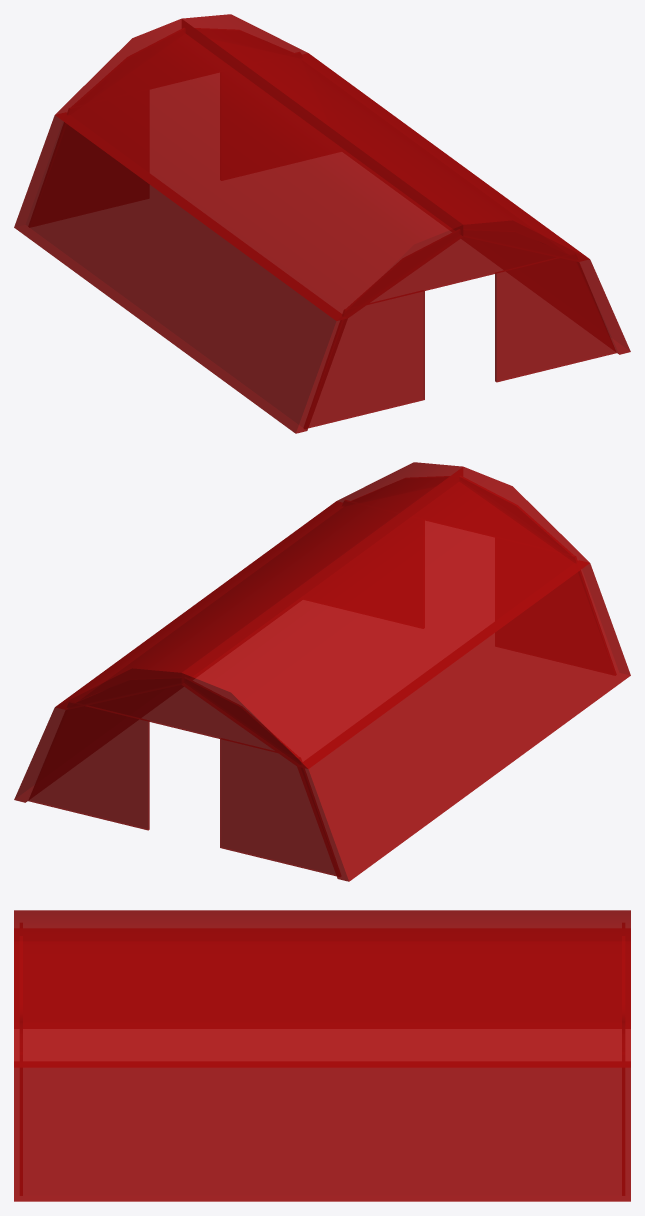
File: SM_Bld_Tent_Refugee_01_Collision.fbx
The picture shows the model from 3 angles, top to bottom: view 1: azimuth 30°, elevation 25°; view 2: azimuth 150°, elevation 25°; view 3: azimuth 270°, elevation 25°; orthographic projection. The views are drawn at different scales.
Parts seen in each view (by area): view 1: SM_Bld_Tent_Refugee_01_Collision; view 2: SM_Bld_Tent_Refugee_01_Collision; view 3: SM_Bld_Tent_Refugee_01_Collision.
Boxes of the visible parts, left/top/right/bottom form: SM_Bld_Tent_Refugee_01_Collision: left=14, top=14, right=630, bottom=433; SM_Bld_Tent_Refugee_01_Collision: left=14, top=462, right=630, bottom=881; SM_Bld_Tent_Refugee_01_Collision: left=14, top=910, right=630, bottom=1201.
Size of the model in its own units: 592 by 284 by 861.
